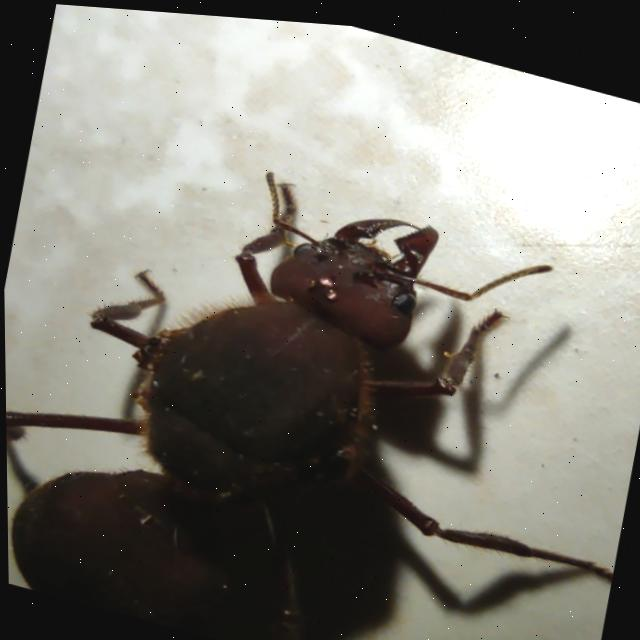Alive-Female-Dealate: (1, 108, 640, 640)
